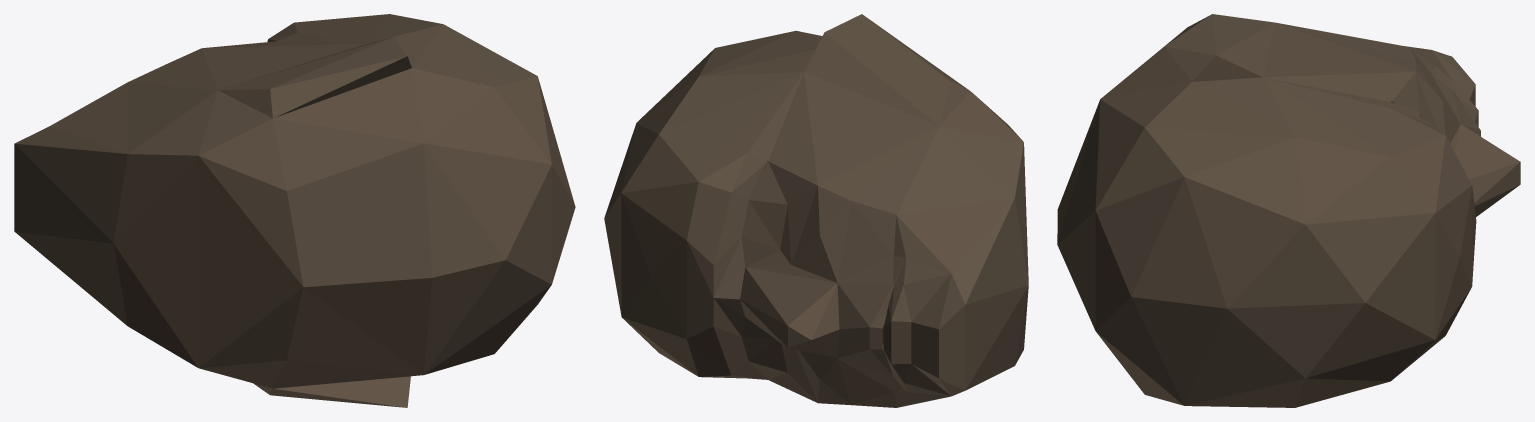
File: ZOM_HEAD.OBJ
The picture shows the model from 3 angles, left to right: view 1: azimuth 30°, elevation 25°; view 2: azimuth 150°, elevation 25°; view 3: azimuth 270°, elevation 25°; orthographic projection. The views are drawn at different scales.
Parts seen in each view (by area): view 1: ZOM_HEAD; view 2: ZOM_HEAD; view 3: ZOM_HEAD.
Part boxes in pixels (left/top/right/bottom): ZOM_HEAD: left=14, top=14, right=575, bottom=407; ZOM_HEAD: left=604, top=14, right=1028, bottom=407; ZOM_HEAD: left=1057, top=14, right=1520, bottom=407.
Bounding box in the file's own units: 0.2491 × 0.1971 × 0.2347.
